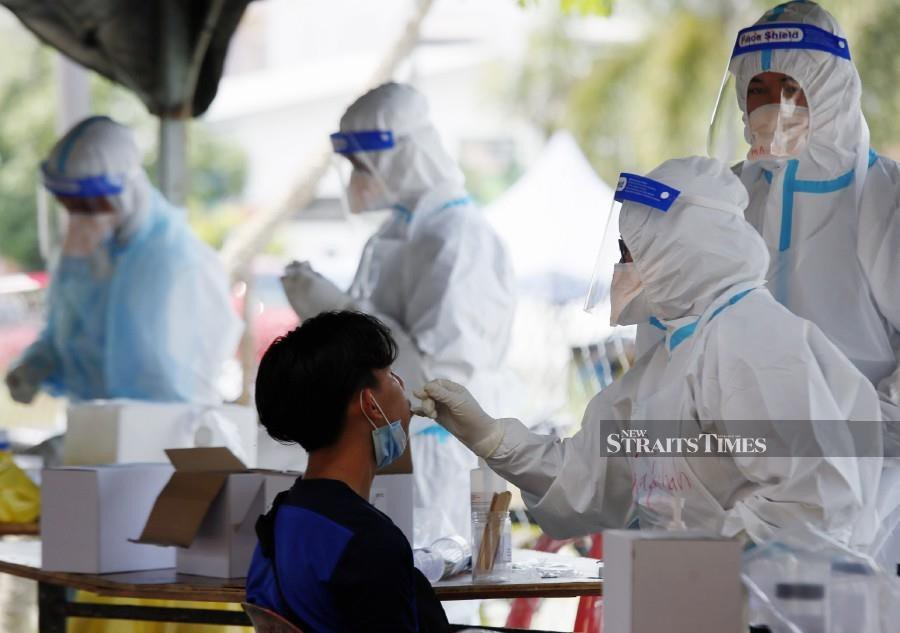Coverall: (533, 152, 891, 633), (283, 79, 513, 534), (705, 1, 900, 523)
Face_Shield: (721, 24, 853, 178), (587, 171, 679, 328), (323, 124, 404, 236), (40, 166, 122, 276)
Gloves: (406, 376, 511, 463), (271, 253, 358, 331)
Mask: (748, 68, 814, 166), (605, 232, 664, 332)
mask_weared_incorrect: (354, 342, 415, 474)
with_mask: (57, 193, 115, 261), (339, 151, 392, 215)
